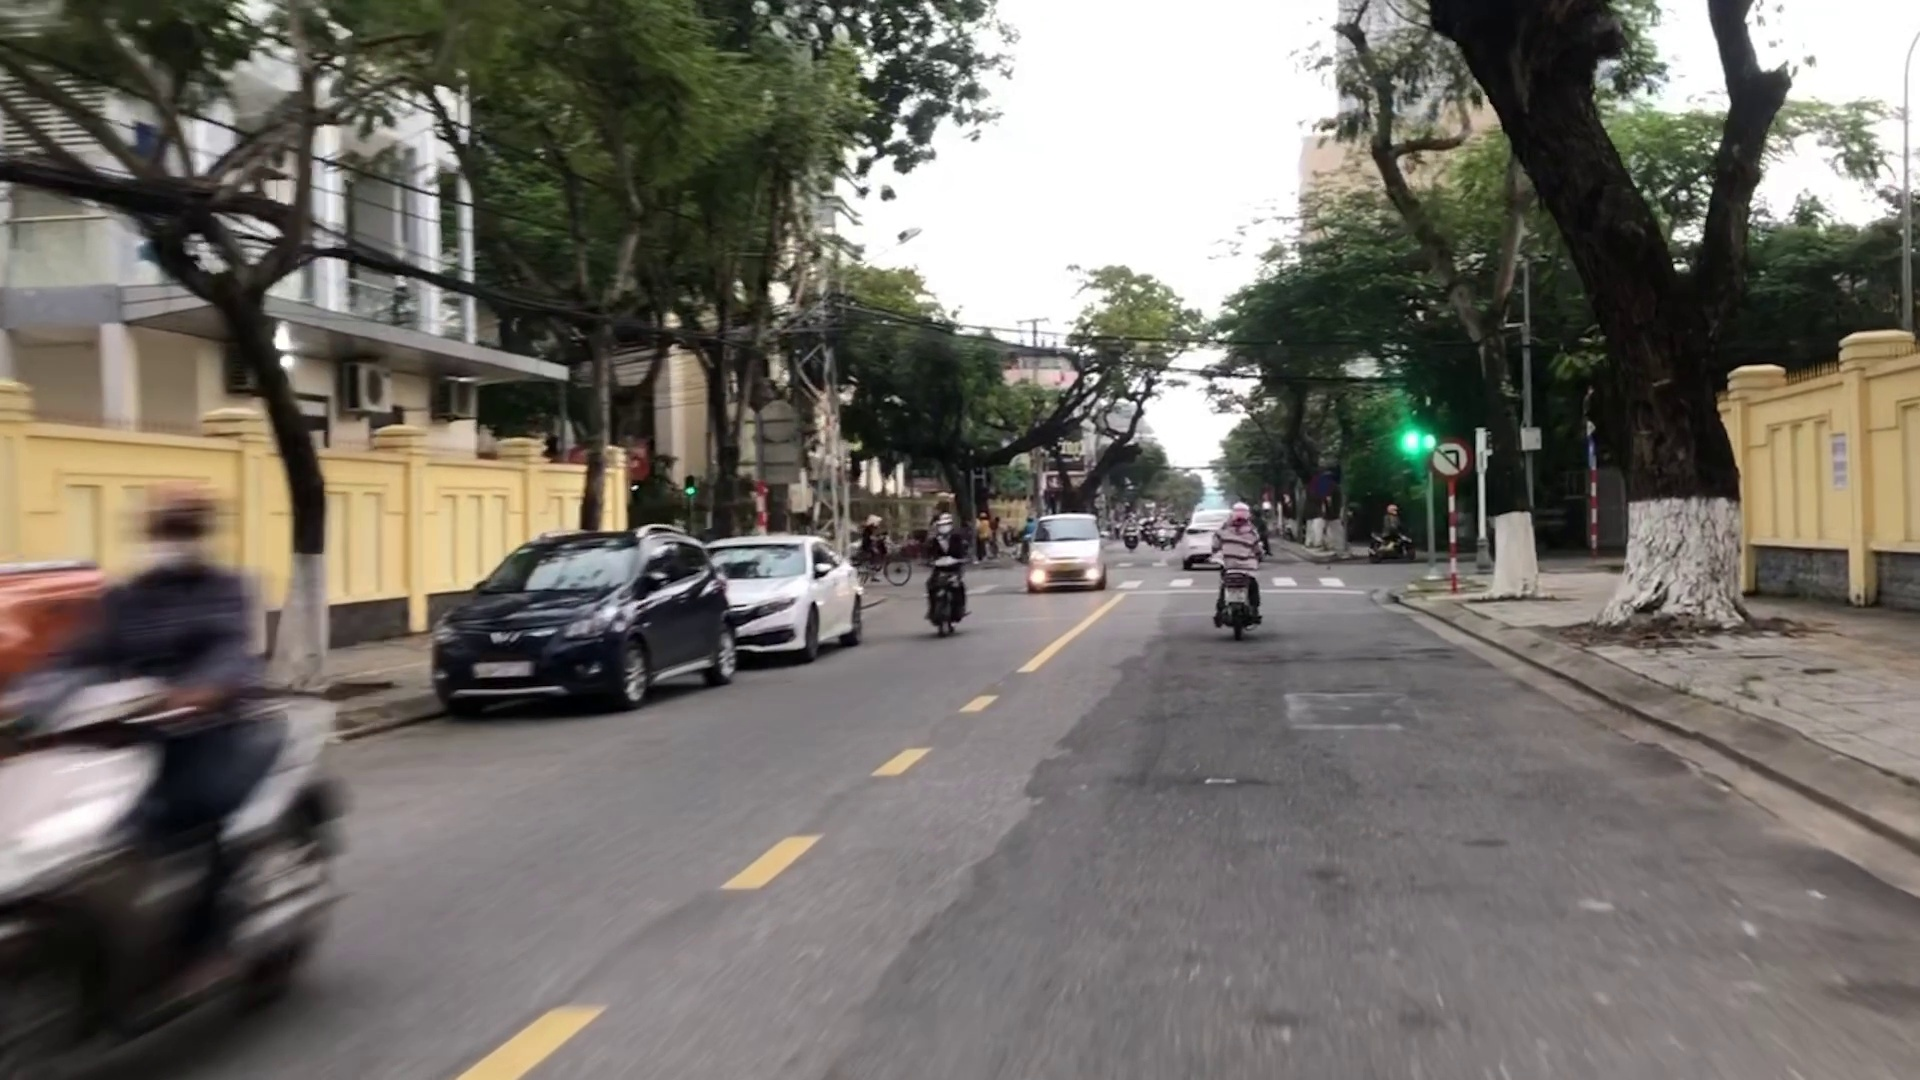Bien khac: (1433, 442, 1468, 477)
